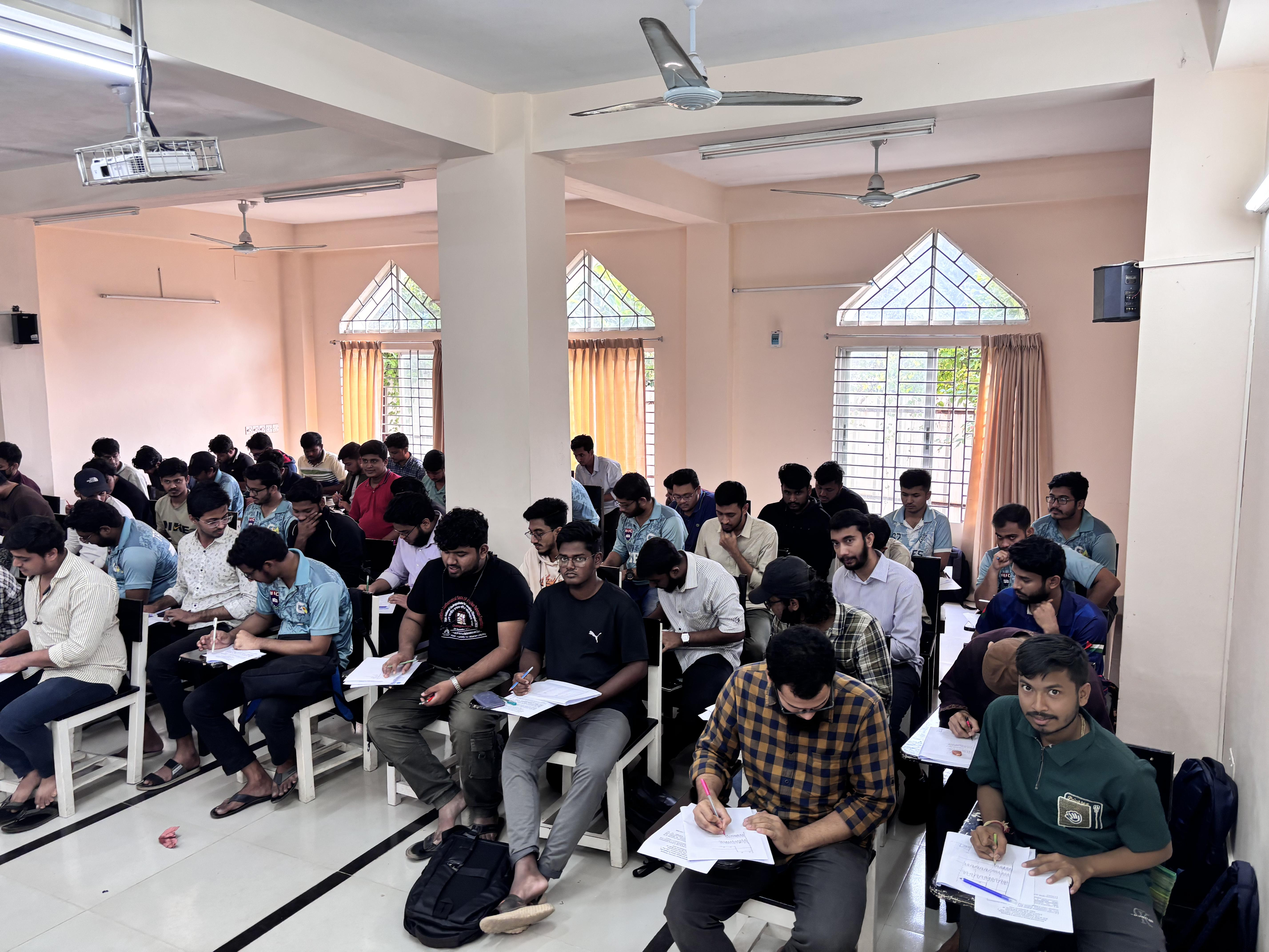copying: (658, 638, 893, 899), (742, 567, 867, 653), (988, 538, 1078, 636)
no_cheating: (955, 649, 1169, 921), (3, 531, 119, 776), (520, 535, 627, 767), (202, 545, 326, 727), (379, 539, 488, 742), (638, 540, 746, 674), (695, 482, 793, 613), (915, 626, 1010, 758), (64, 500, 166, 599), (1031, 465, 1134, 550), (365, 508, 452, 596), (885, 469, 965, 559), (755, 461, 824, 545), (347, 442, 398, 534), (801, 454, 867, 520), (604, 479, 661, 554), (417, 438, 466, 504), (515, 506, 560, 577), (572, 435, 621, 497), (285, 427, 336, 484), (664, 469, 714, 523), (383, 426, 423, 479), (237, 478, 284, 523), (192, 451, 236, 488), (0, 432, 27, 479), (333, 437, 361, 481), (244, 429, 275, 460), (136, 446, 164, 480)
suspicious_moving: (800, 495, 901, 633), (284, 481, 360, 552), (971, 504, 1026, 580), (153, 454, 199, 522), (69, 466, 117, 504), (92, 432, 135, 473)
